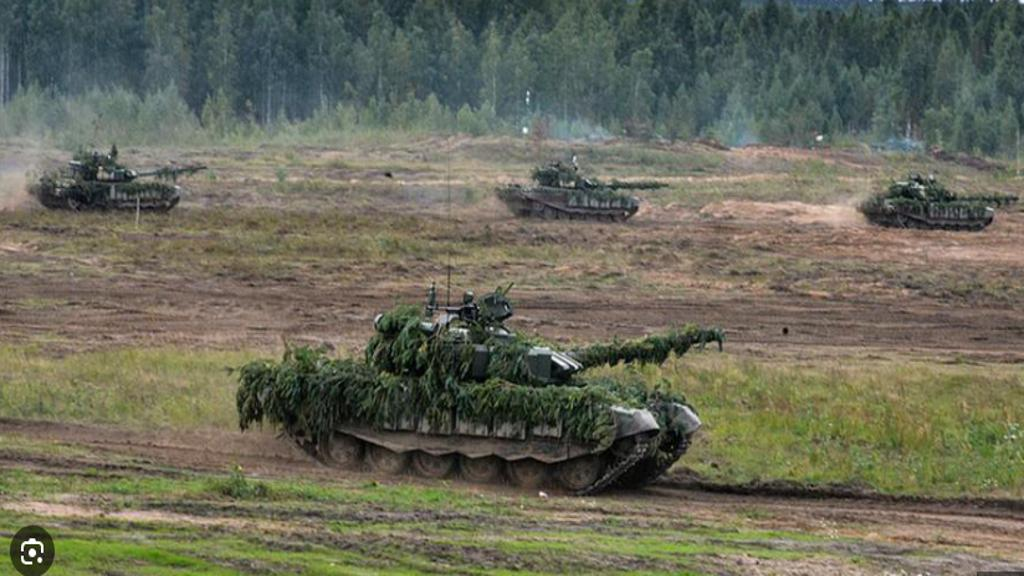TANK: (236, 286, 728, 498), (23, 149, 209, 216), (506, 158, 669, 224), (852, 169, 1021, 232)
